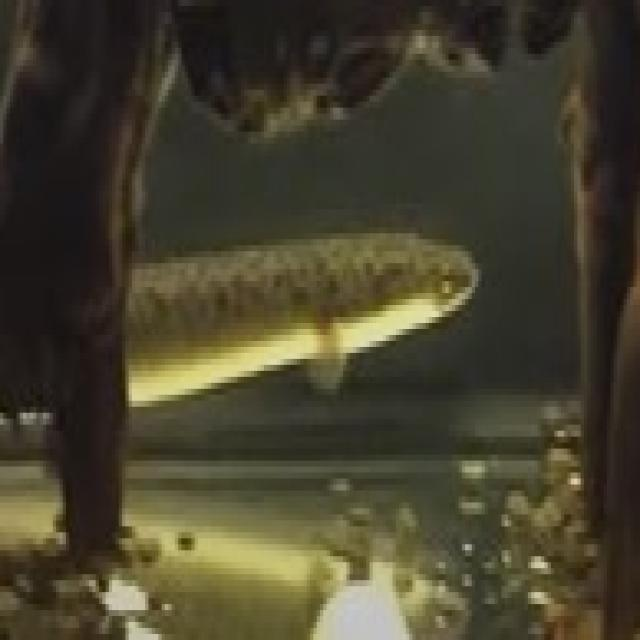Freshwater-Eel: (37, 183, 502, 466)
